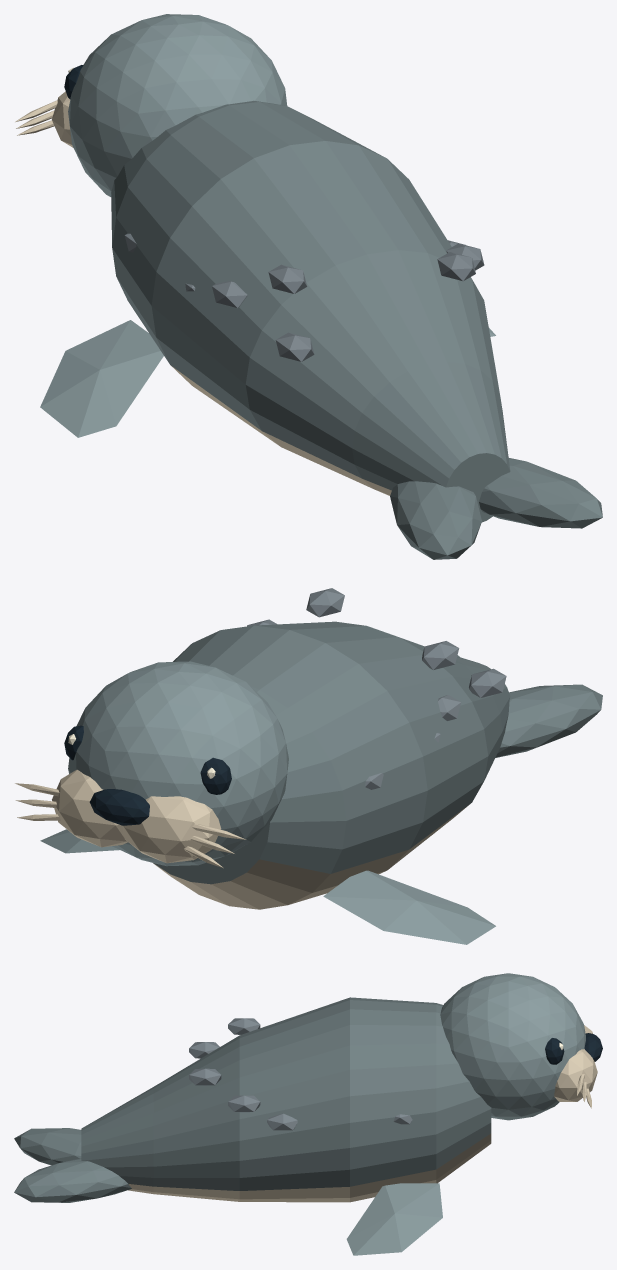
File: wild_seal.glb
The picture shows the model from 3 angles, top to bottom: view 1: azimuth 30°, elevation 25°; view 2: azimuth 150°, elevation 25°; view 3: azimuth 270°, elevation 25°; orthographic projection. The views are drawn at different scales.
Parts seen in each view (by area): view 1: Resting spindle, Round head, Fore flipper; view 2: Resting spindle, Round head, Fore flipper, Fore flipper.001; view 3: Resting spindle, Round head, Fore flipper.001.
Part boxes in pixels (<box>): Resting spindle: <box>111,100,602,559</box>; Round head: <box>15,14,287,196</box>; Fore flipper: <box>40,320,163,437</box>; Resting spindle: <box>153,588,602,909</box>; Round head: <box>15,661,288,868</box>; Fore flipper: <box>323,870,495,944</box>; Fore flipper.001: <box>40,829,119,853</box>; Resting spindle: <box>14,997,491,1202</box>; Round head: <box>440,973,602,1120</box>; Fore flipper.001: <box>346,1183,442,1255</box>.
Bounding box in the file's own units: 1.02 × 0.67 × 1.71.
